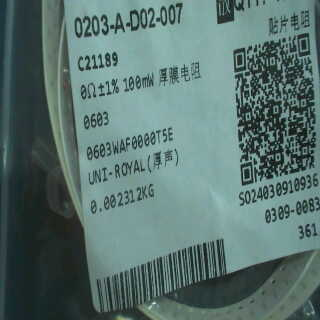0R: (79, 69, 157, 135)
